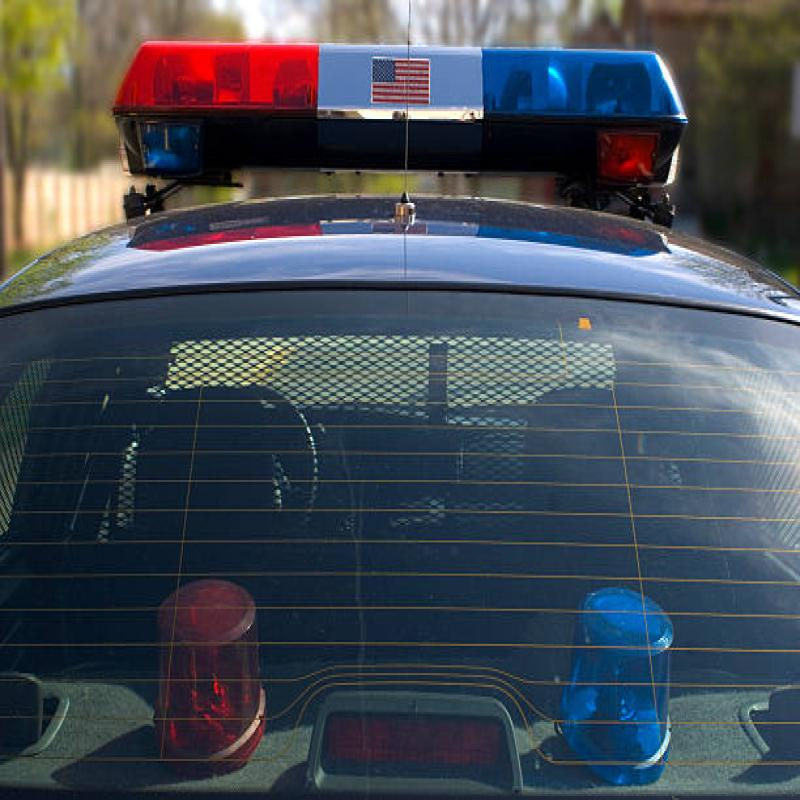AmbulanceSiren: (102, 42, 692, 220)
